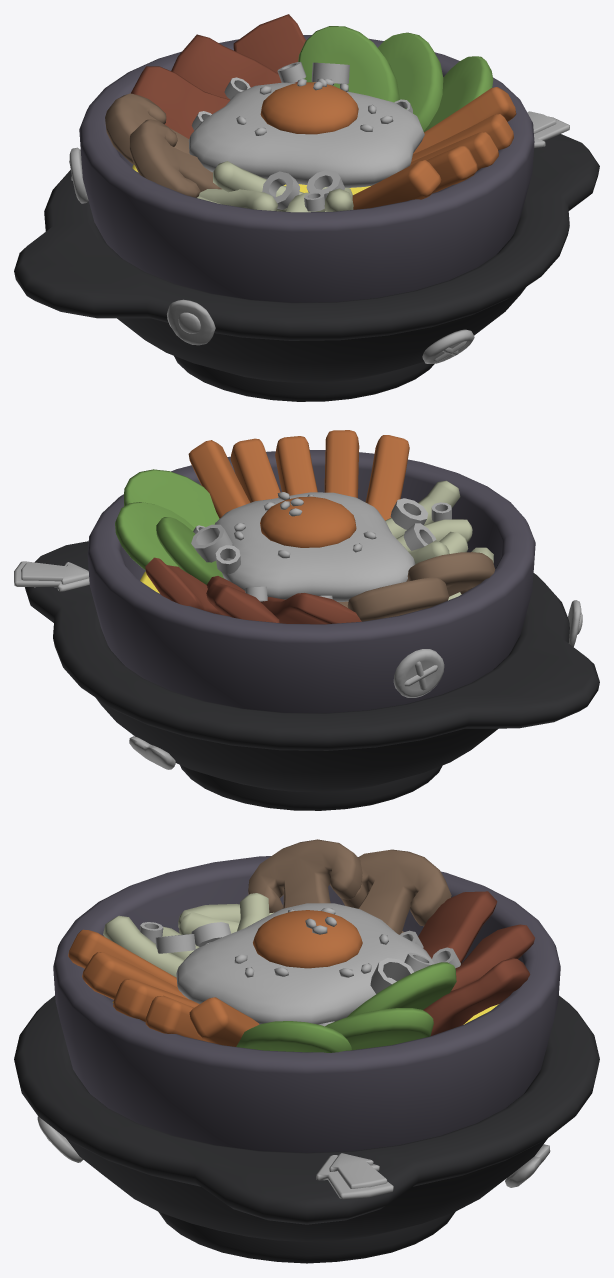
The model's file is MixedRice.fbx.
The picture shows the model from 3 angles, top to bottom: view 1: azimuth 30°, elevation 25°; view 2: azimuth 150°, elevation 25°; view 3: azimuth 270°, elevation 25°; orthographic projection. The views are drawn at different scales.
Visible parts, largest first — view 1: S_MixedRice, M_MixedRice_9, M_MixedRice_16, M_MixedRice_17, M_MixedRice_18, M_MixedRice_23, M_MixedRice_19, D_MixedRice_21, M_MixedRice_22, M_MixedRice_20, M_MixedRice_21, D_MixedRice_22 (+5 smaller); view 2: S_MixedRice, M_MixedRice_9, M_MixedRice_23, M_MixedRice_19, M_MixedRice_17, M_MixedRice_22, M_MixedRice_20, M_MixedRice_18, M_MixedRice_21, D_MixedRice_20, M_MixedRice_16, D_MixedRice_23 (+6 smaller); view 3: S_MixedRice, M_MixedRice_9, M_MixedRice_18, M_MixedRice_17, M_MixedRice_16, D_MixedRice_23, M_MixedRice_19, M_MixedRice_22, M_MixedRice_23, M_MixedRice_20, M_MixedRice_21, D_MixedRice_2 (+4 smaller).
Part boxes in pixels (bbox=[...]): S_MixedRice: bbox=[14, 26, 599, 401]; M_MixedRice_9: bbox=[260, 82, 358, 134]; M_MixedRice_16: bbox=[171, 34, 296, 99]; M_MixedRice_17: bbox=[131, 66, 229, 138]; M_MixedRice_18: bbox=[233, 14, 305, 83]; M_MixedRice_23: bbox=[352, 160, 441, 209]; M_MixedRice_19: bbox=[413, 87, 516, 153]; D_MixedRice_21: bbox=[167, 299, 215, 345]; M_MixedRice_22: bbox=[426, 146, 477, 192]; M_MixedRice_20: bbox=[411, 113, 513, 161]; M_MixedRice_21: bbox=[410, 132, 498, 171]; D_MixedRice_22: bbox=[422, 329, 474, 363]; S_MixedRice: bbox=[25, 450, 599, 810]; M_MixedRice_9: bbox=[260, 496, 356, 547]; M_MixedRice_23: bbox=[365, 435, 409, 520]; M_MixedRice_19: bbox=[188, 440, 250, 518]; M_MixedRice_17: bbox=[260, 593, 361, 624]; M_MixedRice_22: bbox=[324, 430, 359, 498]; M_MixedRice_20: bbox=[230, 438, 280, 502]; M_MixedRice_18: bbox=[145, 557, 222, 614]; M_MixedRice_21: bbox=[275, 436, 317, 495]; D_MixedRice_20: bbox=[393, 649, 444, 697]; M_MixedRice_16: bbox=[206, 576, 279, 622]; D_MixedRice_23: bbox=[14, 561, 89, 591]; S_MixedRice: bbox=[14, 839, 599, 1263]; M_MixedRice_9: bbox=[253, 910, 362, 968]; M_MixedRice_18: bbox=[423, 958, 530, 1036]; M_MixedRice_17: bbox=[418, 891, 497, 963]; M_MixedRice_16: bbox=[451, 924, 534, 990]; D_MixedRice_23: bbox=[316, 1153, 393, 1199]; M_MixedRice_19: bbox=[189, 997, 259, 1046]; M_MixedRice_22: bbox=[82, 952, 187, 999]; M_MixedRice_23: bbox=[68, 929, 177, 987]; M_MixedRice_20: bbox=[145, 995, 206, 1041]; M_MixedRice_21: bbox=[113, 979, 199, 1021]; D_MixedRice_2: bbox=[370, 958, 413, 993].
Size of the model in its own units: 620 by 275 by 502.
